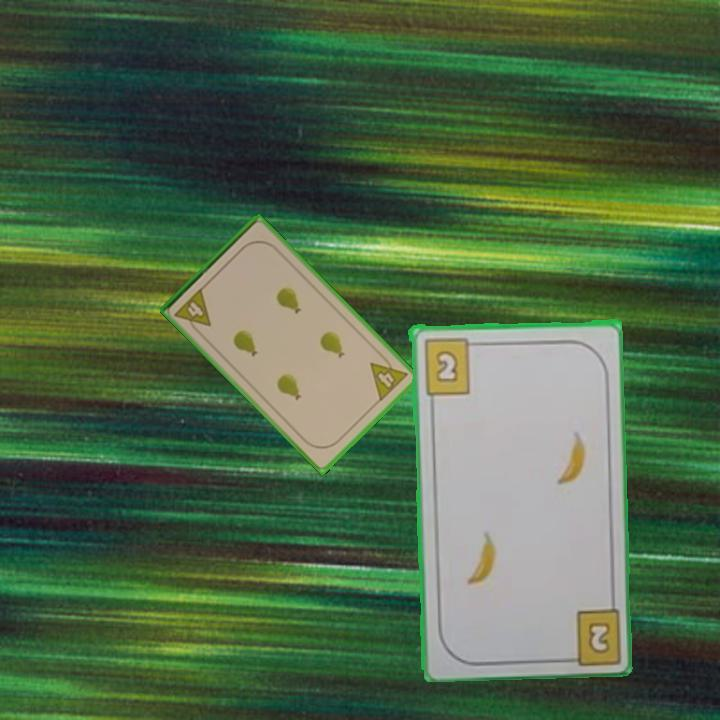2b: (557, 602, 621, 664), (420, 334, 481, 396)
4p: (367, 350, 411, 404), (171, 284, 214, 337)
